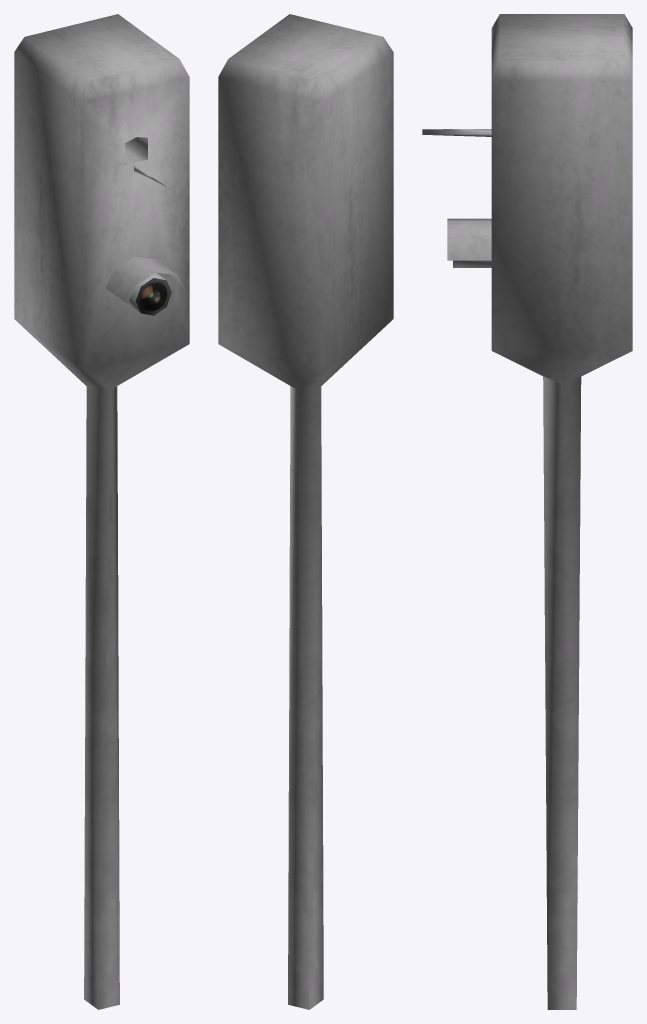
Rendered from Fotoboks.glb.
The picture shows the model from 3 angles, left to right: view 1: azimuth 30°, elevation 25°; view 2: azimuth 150°, elevation 25°; view 3: azimuth 270°, elevation 25°; orthographic projection.
Visible parts, largest first — view 1: VikePliktSkilt; view 2: VikePliktSkilt; view 3: VikePliktSkilt.
Part boxes in pixels (x1=…): VikePliktSkilt: x1=14, y1=14, x2=189, y2=1009; VikePliktSkilt: x1=218, y1=14, x2=393, y2=1009; VikePliktSkilt: x1=422, y1=14, x2=632, y2=1009.
Bounding box in the file's own units: 2.12 × 18.27 × 3.6.
1 material, 1 textured.
